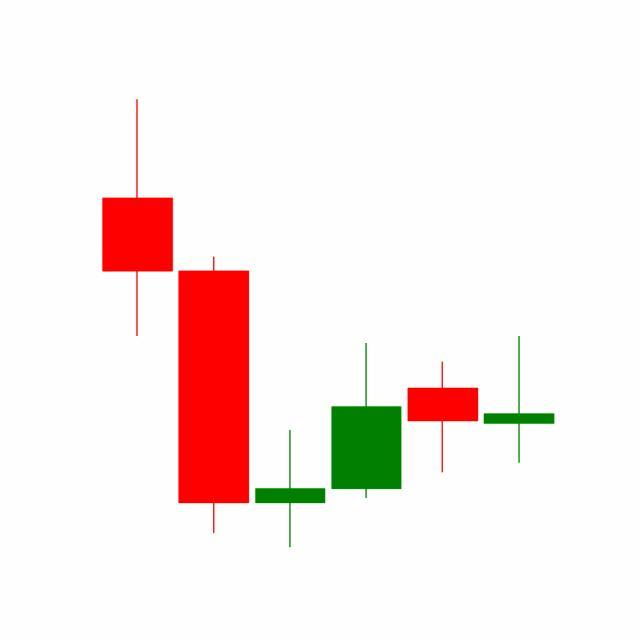Hikkake Pattern: (175, 252, 555, 548)
